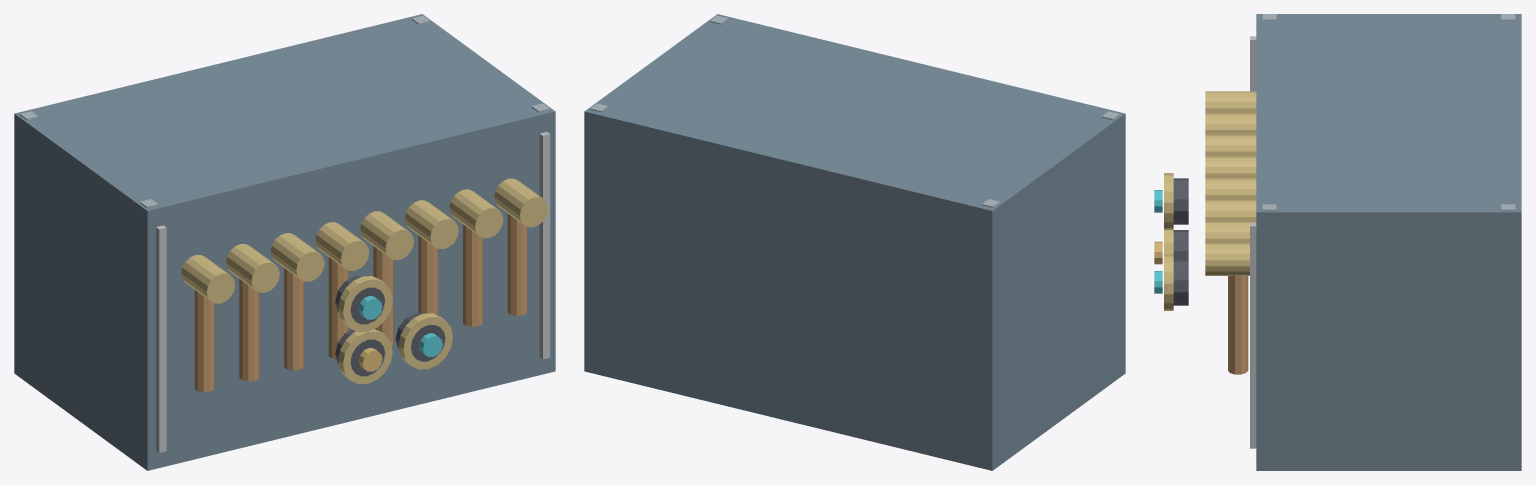
File: 16_L82_FilteredBulkheadFeedthrough.glb
3 renders of one model, left to right at view 1: azimuth 30°, elevation 25°; view 2: azimuth 150°, elevation 25°; view 3: azimuth 270°, elevation 25°, orthographic.
Visible parts, largest first — view 1: FilteredBulkheadFeedthrough_Node_0000, FilteredBulkheadFeedthrough_Node_0006, FilteredBulkheadFeedthrough_Node_0005, FilteredBulkheadFeedthrough_Node_0022, FilteredBulkheadFeedthrough_Node_0008, FilteredBulkheadFeedthrough_Node_0010, FilteredBulkheadFeedthrough_Node_0012, FilteredBulkheadFeedthrough_Node_0020, FilteredBulkheadFeedthrough_Node_0021, FilteredBulkheadFeedthrough_Node_0013, FilteredBulkheadFeedthrough_Node_0011, FilteredBulkheadFeedthrough_Node_0009 (+13 smaller); view 2: FilteredBulkheadFeedthrough_Node_0000; view 3: FilteredBulkheadFeedthrough_Node_0000, FilteredBulkheadFeedthrough_Node_0022, FilteredBulkheadFeedthrough_Node_0006, FilteredBulkheadFeedthrough_Node_0021, FilteredBulkheadFeedthrough_Node_0011, FilteredBulkheadFeedthrough_Node_0007, FilteredBulkheadFeedthrough_Node_0009, FilteredBulkheadFeedthrough_Node_0013, FilteredBulkheadFeedthrough_Node_0015, FilteredBulkheadFeedthrough_Node_0017, FilteredBulkheadFeedthrough_Node_0019, FilteredBulkheadFeedthrough_Node_0032 (+5 smaller).
Boxes of the visible parts, left/top/right/bottom form: FilteredBulkheadFeedthrough_Node_0000: left=14, top=14, right=555, bottom=470; FilteredBulkheadFeedthrough_Node_0006: left=539, top=132, right=550, bottom=359; FilteredBulkheadFeedthrough_Node_0005: left=156, top=225, right=166, bottom=452; FilteredBulkheadFeedthrough_Node_0022: left=507, top=213, right=527, bottom=315; FilteredBulkheadFeedthrough_Node_0008: left=194, top=290, right=214, bottom=392; FilteredBulkheadFeedthrough_Node_0010: left=239, top=279, right=259, bottom=381; FilteredBulkheadFeedthrough_Node_0012: left=284, top=268, right=303, bottom=370; FilteredBulkheadFeedthrough_Node_0020: left=463, top=224, right=482, bottom=326; FilteredBulkheadFeedthrough_Node_0021: left=494, top=178, right=547, bottom=227; FilteredBulkheadFeedthrough_Node_0013: left=315, top=222, right=369, bottom=270; FilteredBulkheadFeedthrough_Node_0011: left=270, top=233, right=324, bottom=281; FilteredBulkheadFeedthrough_Node_0009: left=226, top=244, right=279, bottom=292; FilteredBulkheadFeedthrough_Node_0000: left=584, top=14, right=1125, bottom=470; FilteredBulkheadFeedthrough_Node_0000: left=1256, top=14, right=1521, bottom=470; FilteredBulkheadFeedthrough_Node_0022: left=1228, top=275, right=1248, bottom=374; FilteredBulkheadFeedthrough_Node_0006: left=1250, top=222, right=1256, bottom=448; FilteredBulkheadFeedthrough_Node_0021: left=1205, top=243, right=1249, bottom=275; FilteredBulkheadFeedthrough_Node_0011: left=1205, top=134, right=1256, bottom=156; FilteredBulkheadFeedthrough_Node_0007: left=1205, top=91, right=1256, bottom=112; FilteredBulkheadFeedthrough_Node_0009: left=1205, top=113, right=1256, bottom=134; FilteredBulkheadFeedthrough_Node_0013: left=1205, top=156, right=1256, bottom=177; FilteredBulkheadFeedthrough_Node_0015: left=1205, top=178, right=1256, bottom=199; FilteredBulkheadFeedthrough_Node_0017: left=1205, top=200, right=1256, bottom=221; FilteredBulkheadFeedthrough_Node_0019: left=1205, top=221, right=1256, bottom=243; FilteredBulkheadFeedthrough_Node_0032: left=1173, top=259, right=1188, bottom=305.
Bounding box in the file's own units: 1.15 × 0.7035 × 0.9.
